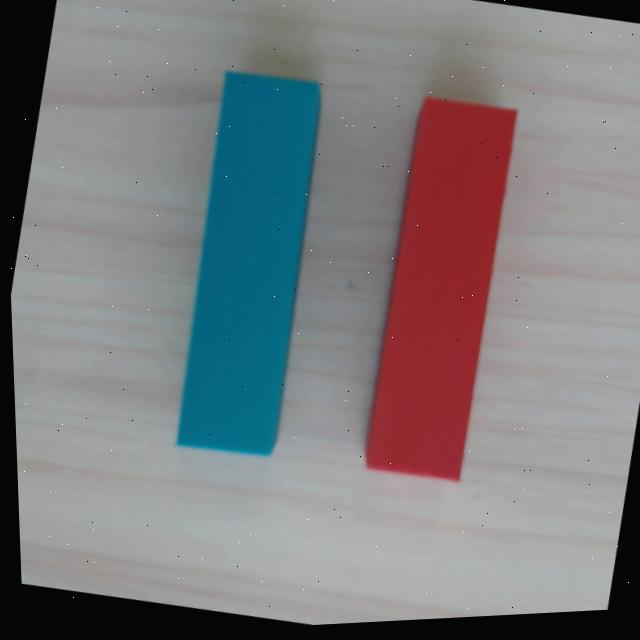Balok-Hijau-1002525: (176, 69, 323, 456)
Balok-Merah-1002525: (362, 95, 517, 481)
